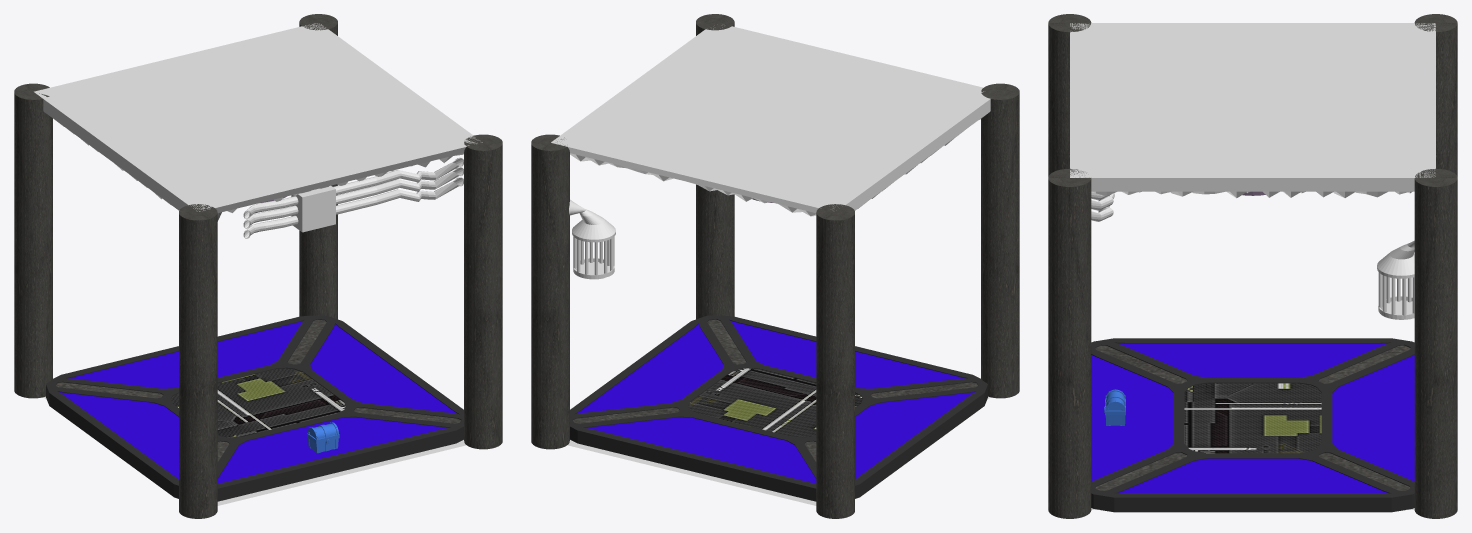
Rendered from tunnel_cross_4_open.fbx.
The picture shows the model from 3 angles, left to right: view 1: azimuth 30°, elevation 25°; view 2: azimuth 150°, elevation 25°; view 3: azimuth 270°, elevation 25°; orthographic projection. The views are drawn at different scales.
Visible parts, largest first — view 1: Cube.005, pipe; view 2: Cube.005, Lamp2.001; view 3: Cube.005, Lamp2.001, pipe.
Part boxes in pixels (box(x1,y1,x2,y2)): Cube.005: box(14, 14, 502, 518); pipe: box(243, 157, 463, 238); Cube.005: box(531, 14, 1019, 518); Lamp2.001: box(569, 199, 615, 279); Cube.005: box(1048, 14, 1457, 518); Lamp2.001: box(1377, 240, 1414, 319); pipe: box(1091, 191, 1114, 221).
Bounding box in the file's own units: 1900 × 1701 × 1900.
